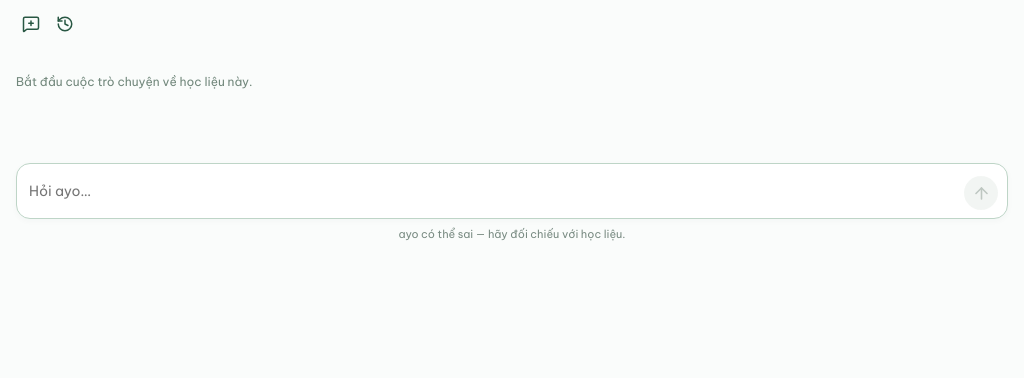
Test: creates a session lazily and sends stable IDs with document-only scope
Type "Câu hỏi mới" into the text box named "Câu hỏi cho ayo" at (492, 191), box [29,175,956,207]
Then press Enter
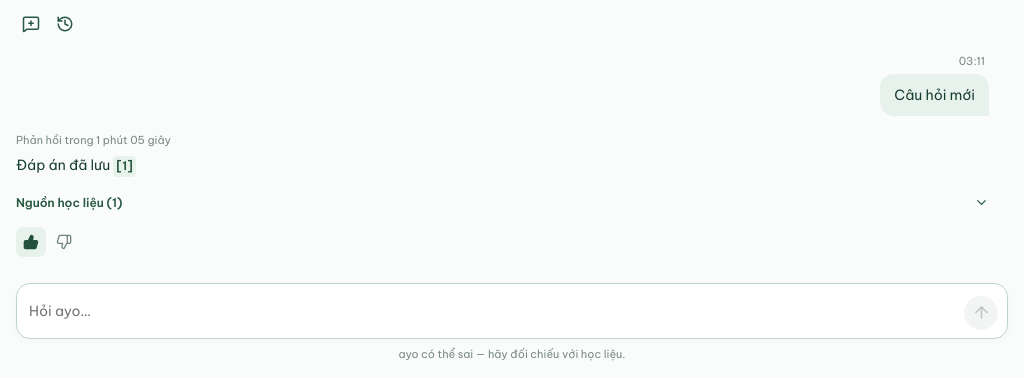
Check: the button named "Trích dẫn [1]" is shown, box [113,156,136,177]
